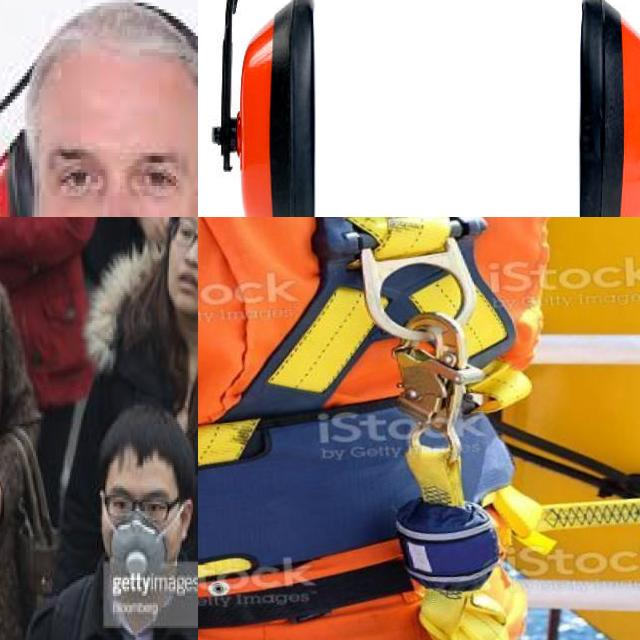Ear-protection: (198, 0, 640, 217), (0, 119, 41, 217)
Harness: (198, 217, 531, 640)
face_mask: (98, 479, 184, 591)
face_nomask: (164, 217, 198, 316)
glasses: (101, 489, 179, 528), (166, 217, 198, 262)
head_nohelmet: (92, 414, 190, 484)
person: (34, 401, 198, 640), (0, 217, 47, 640), (102, 217, 198, 417)
